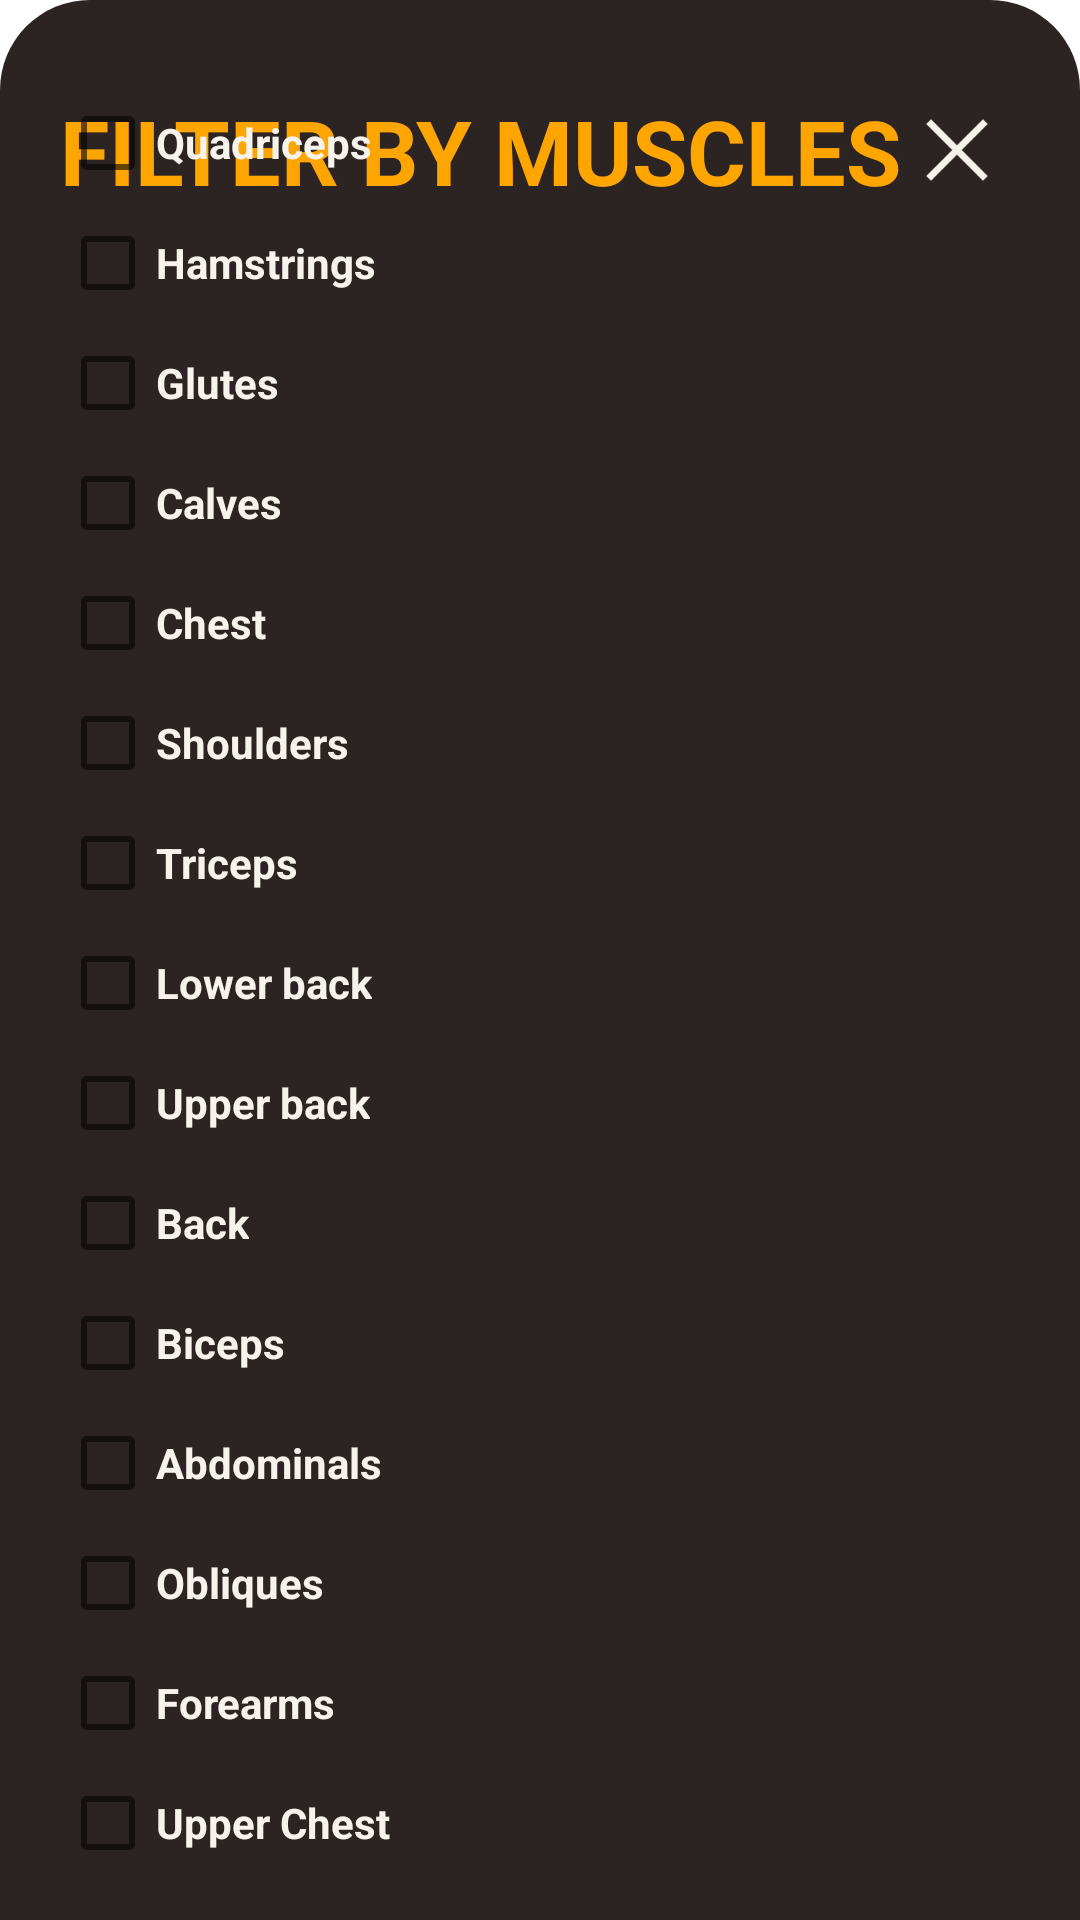

Named icons in this screenshot (1080 × 1920) and their bounding boxes, rect(x1, y1, x2, y2):
close: rect(926, 119, 988, 181)
